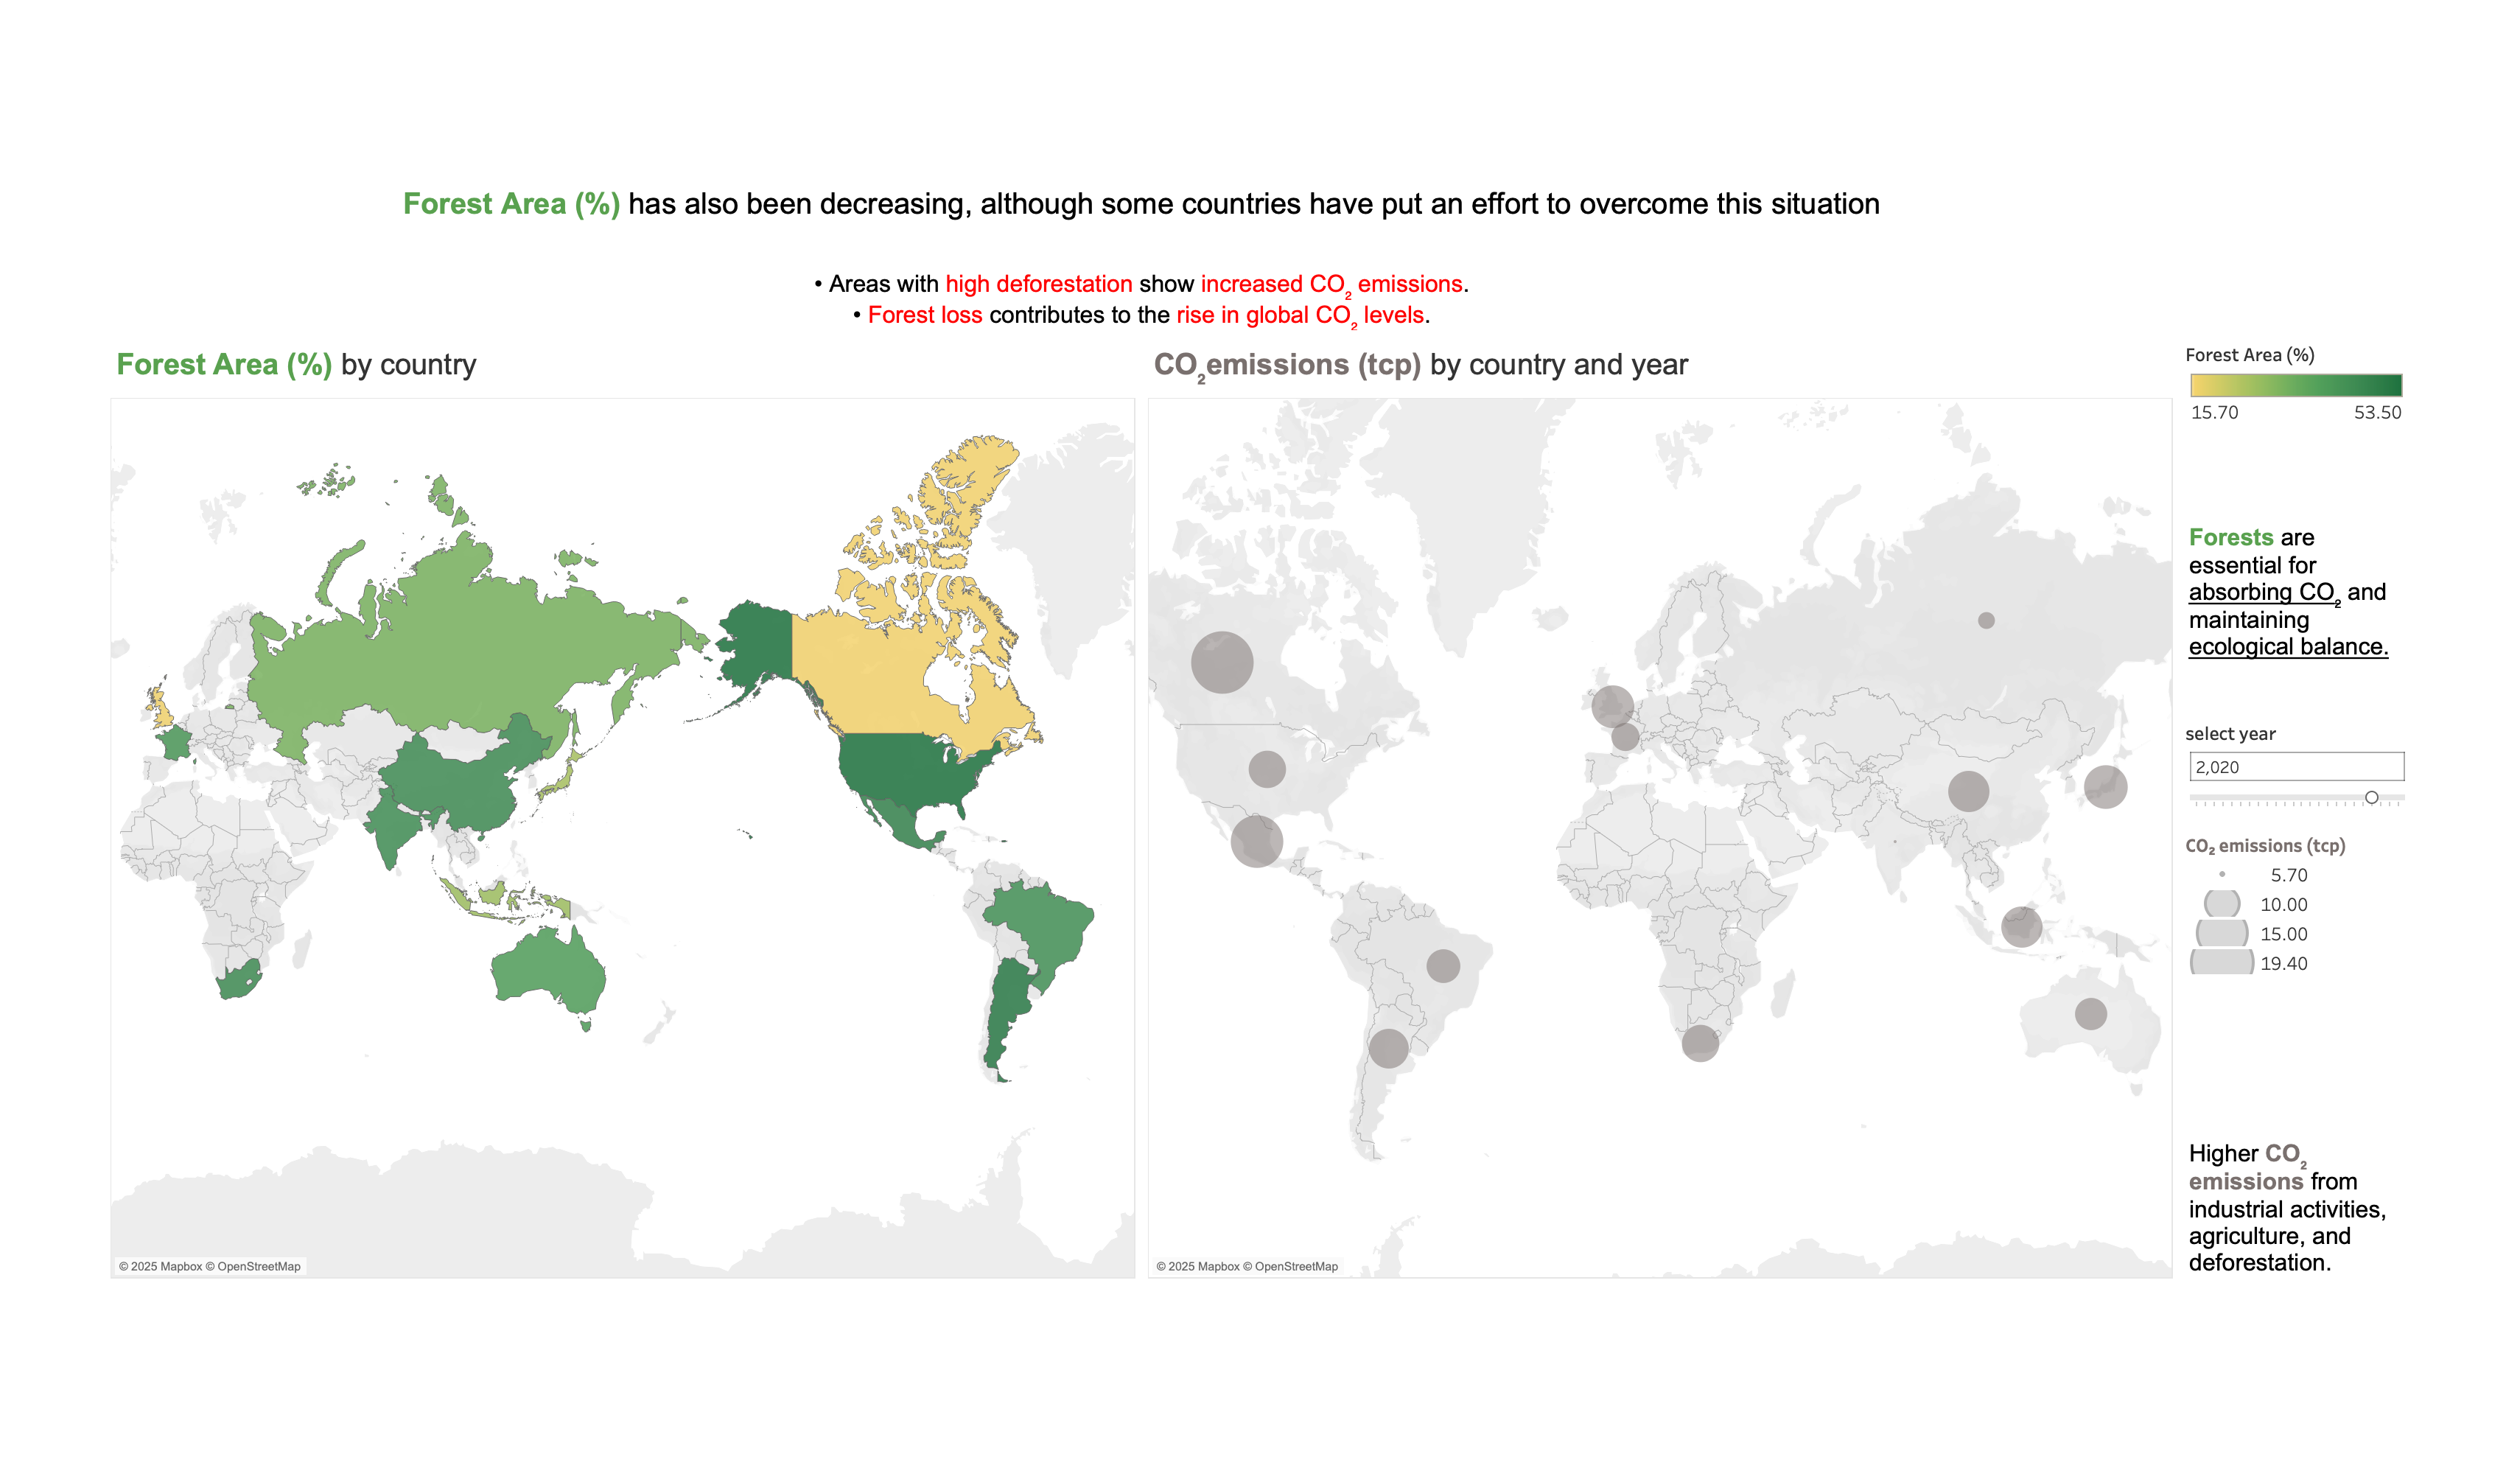

The page's visual inventory and layout, read from the dashboard file:
{"tool":"tableau","page":{"name":"DSH4: Forest Area and CO₂ emissions","canvas":[1584,764],"ordinal":3},"visuals":[{"type":"text","box":[8,8,1408,104]},{"type":"blank","box":[1416,8,160,104]},{"type":"worksheet","title":"Forest Area","mark":"Multipolygon","box":[8,112,704,644]},{"type":"worksheet","title":"CO₂ emissions dots","mark":"Automatic","box":[712,112,704,644]},{"type":"legend","title":"Forest Area","param":"[federated.1izr90m0v7019w1dvamge1eayw5x].[avg:Forest_Area_pct:qk]","box":[1416,112,160,92]},{"type":"text","box":[1416,236,160,102]},{"type":"parameter","param":"[Parameters].[Parámetro 1]","box":[1416,369,160,76]},{"type":"legend","title":"CO₂ emissions dots","param":"[federated.1izr90m0v7019w1dvamge1eayw5x].[avg:CO2_Emissions_tons_per_capita:qk]","box":[1416,445,160,104.5]},{"type":"text","box":[1416,654,160,102]}]}

Visuals, with their boxes on the page's 1584x764 design canvas (x1, y1, x2, y2). These are canvas units, not pixel positions in the 2520x1468 screenshot, which may show the page scaled, cropped or inside an application window:
text: {"left": 8, "top": 8, "right": 1416, "bottom": 112}
blank: {"left": 1416, "top": 8, "right": 1576, "bottom": 112}
"Forest Area" worksheet (Multipolygon marks): {"left": 8, "top": 112, "right": 712, "bottom": 756}
"CO₂ emissions dots" worksheet: {"left": 712, "top": 112, "right": 1416, "bottom": 756}
"Forest Area" legend: {"left": 1416, "top": 112, "right": 1576, "bottom": 204}
text: {"left": 1416, "top": 236, "right": 1576, "bottom": 338}
parameter: {"left": 1416, "top": 369, "right": 1576, "bottom": 445}
"CO₂ emissions dots" legend: {"left": 1416, "top": 445, "right": 1576, "bottom": 550}
text: {"left": 1416, "top": 654, "right": 1576, "bottom": 756}
